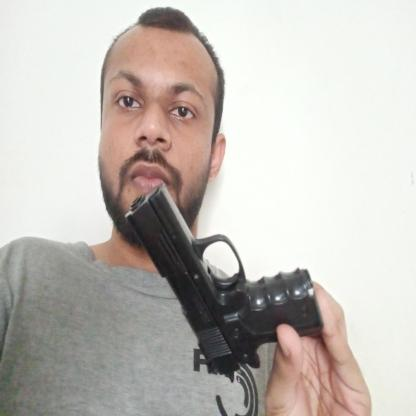handgun: (123, 180, 325, 386)
